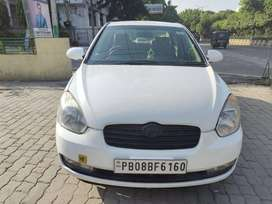PB08BF6160: (114, 159, 187, 173)
